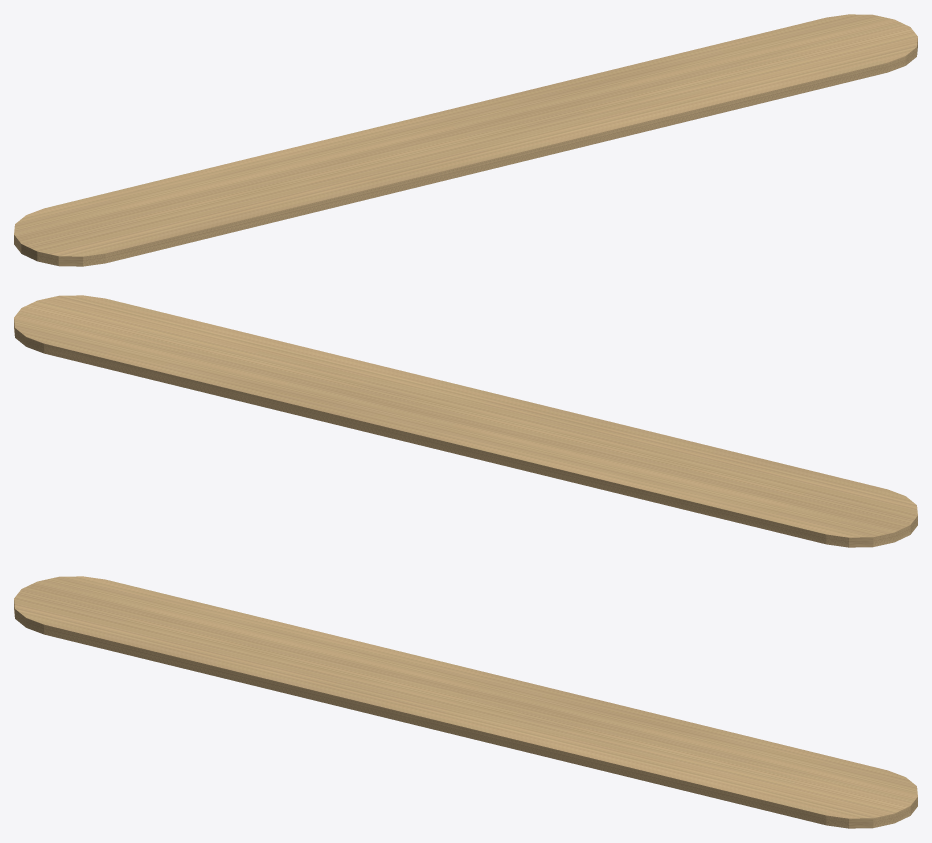
Rendered from MixingSpatula.obj.
The picture shows the model from 3 angles, top to bottom: view 1: azimuth 30°, elevation 25°; view 2: azimuth 150°, elevation 25°; view 3: azimuth 330°, elevation 25°; orthographic projection.
Parts seen in each view (by area): view 1: Wood; view 2: Wood; view 3: Wood.
Boxes of the visible parts, x1,y1,x2,y2 form: Wood: (14, 14, 917, 266); Wood: (14, 295, 917, 547); Wood: (14, 576, 917, 828).
Size of the model in its own units: 0.15 by 0.0016 by 0.018.
Materials: 1 (1 with a texture image).
